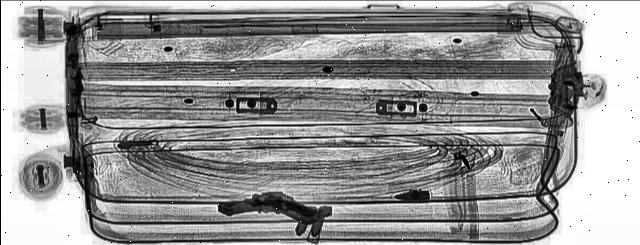Gun: (207, 190, 333, 236)
